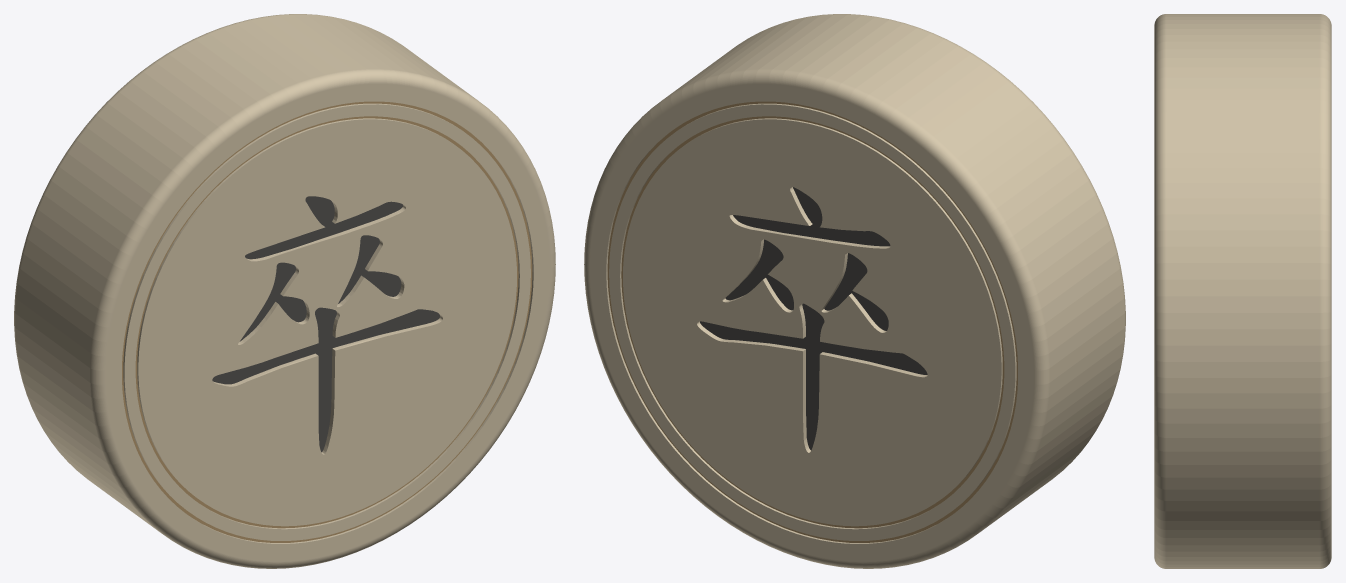
The picture shows the model from 3 angles, left to right: view 1: azimuth 30°, elevation 25°; view 2: azimuth 150°, elevation 25°; view 3: azimuth 270°, elevation 25°; orthographic projection. The views are drawn at different scales.
Visible parts, largest first — view 1: wood, engraved_letters, engraved_border; view 2: wood, engraved_letters, engraved_border; view 3: wood.
Part boxes in pixels (x1=…): wood: x1=14, y1=14, x2=555, y2=568; engraved_letters: x1=212, y1=196, x2=439, y2=452; engraved_border: x1=122, y1=101, x2=532, y2=542; wood: x1=584, y1=14, x2=1125, y2=568; engraved_letters: x1=700, y1=187, x2=927, y2=450; engraved_border: x1=607, y1=101, x2=1017, y2=542; wood: x1=1154, y1=14, x2=1331, y2=568.
Size of the model in its own units: 0.047 by 0.047 by 0.015.
